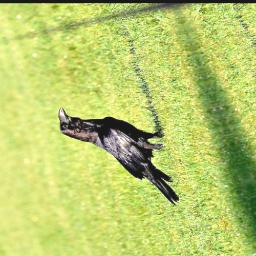Crow: (49, 87, 194, 225)
